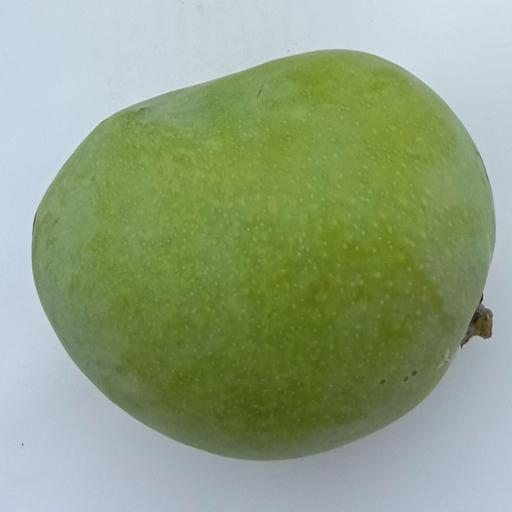mango-unripe: (28, 19, 509, 491)
